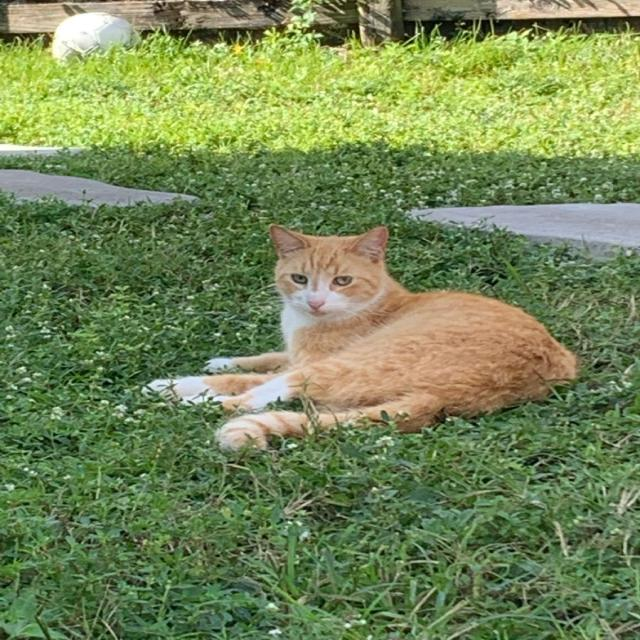sarman: (0, 61, 580, 551)
